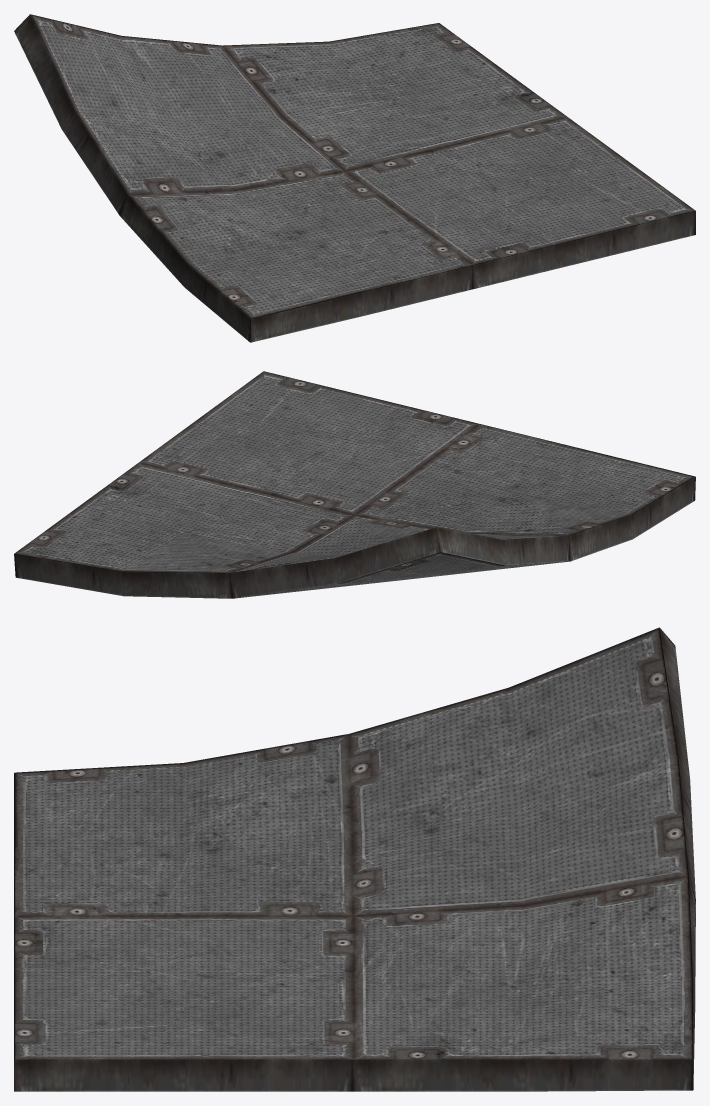
The model's file is pplant_first_floor_damaged01.dae.
3 renders of one model, top to bottom at view 1: azimuth 30°, elevation 25°; view 2: azimuth 150°, elevation 25°; view 3: azimuth 270°, elevation 25°, orthographic. The views are drawn at different scales.
Parts seen in each view (by area): view 1: first_floor_damaged01; view 2: first_floor_damaged01; view 3: first_floor_damaged01.
Part boxes in pixels (<box>): first_floor_damaged01: <box>14,14,695,342</box>; first_floor_damaged01: <box>14,371,695,598</box>; first_floor_damaged01: <box>14,627,695,1091</box>.
Size of the model in its own units: 2.01 by 0.6233 by 2.01.
